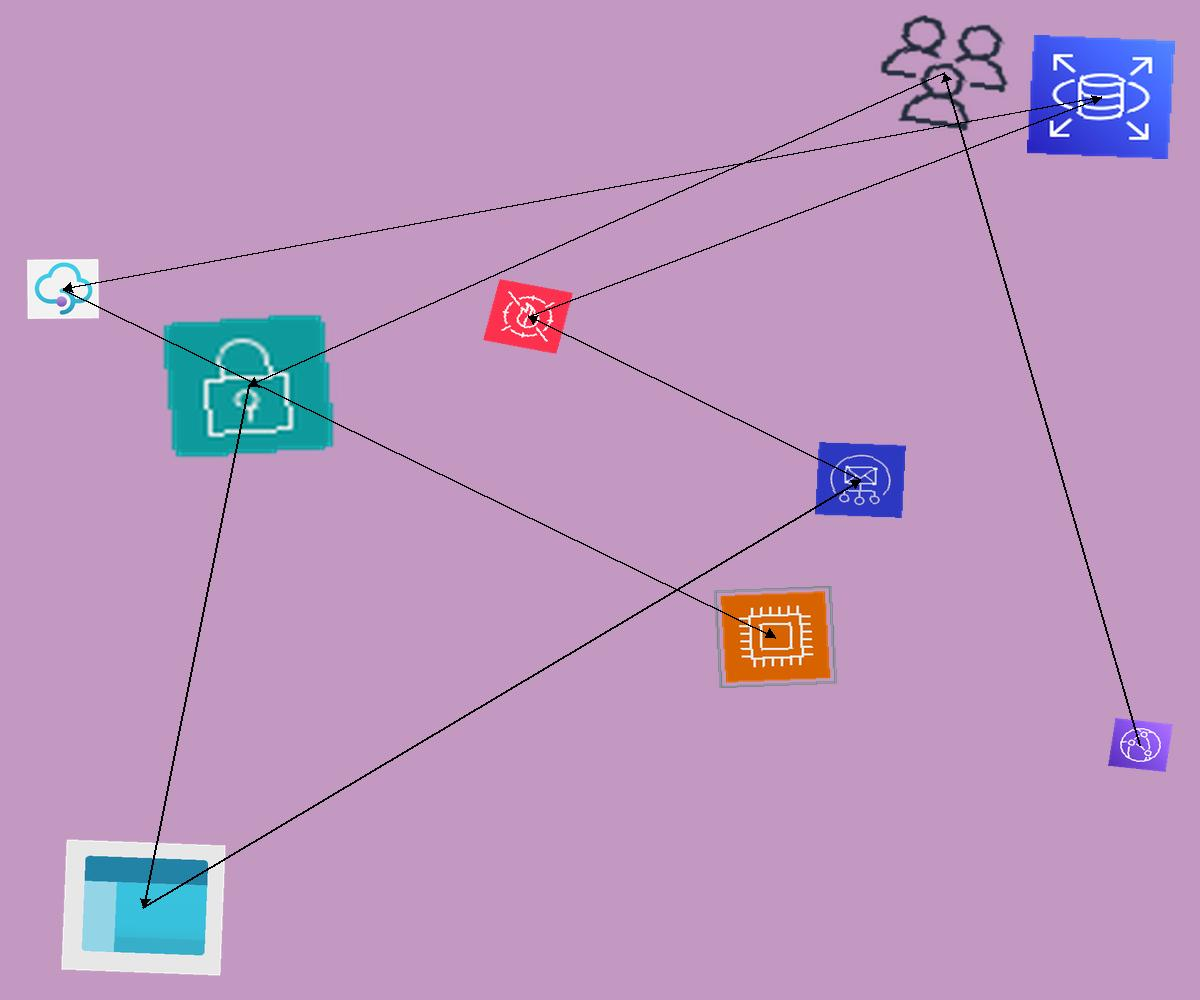AWS-Category_Compute: (713, 585, 838, 689)
AWS-CloudFront: (1108, 718, 1173, 772)
AWS-Private-subnet: (160, 312, 337, 460)
AWS-RDS: (1027, 35, 1175, 159)
AWS-Res_Users: (864, 6, 1025, 140)
AWS-Simple-Email-Service: (815, 442, 906, 518)
AWS-WAF: (483, 279, 573, 354)
Azure_api_gateway: (27, 259, 99, 319)
Azure_management-portal: (61, 839, 226, 976)
